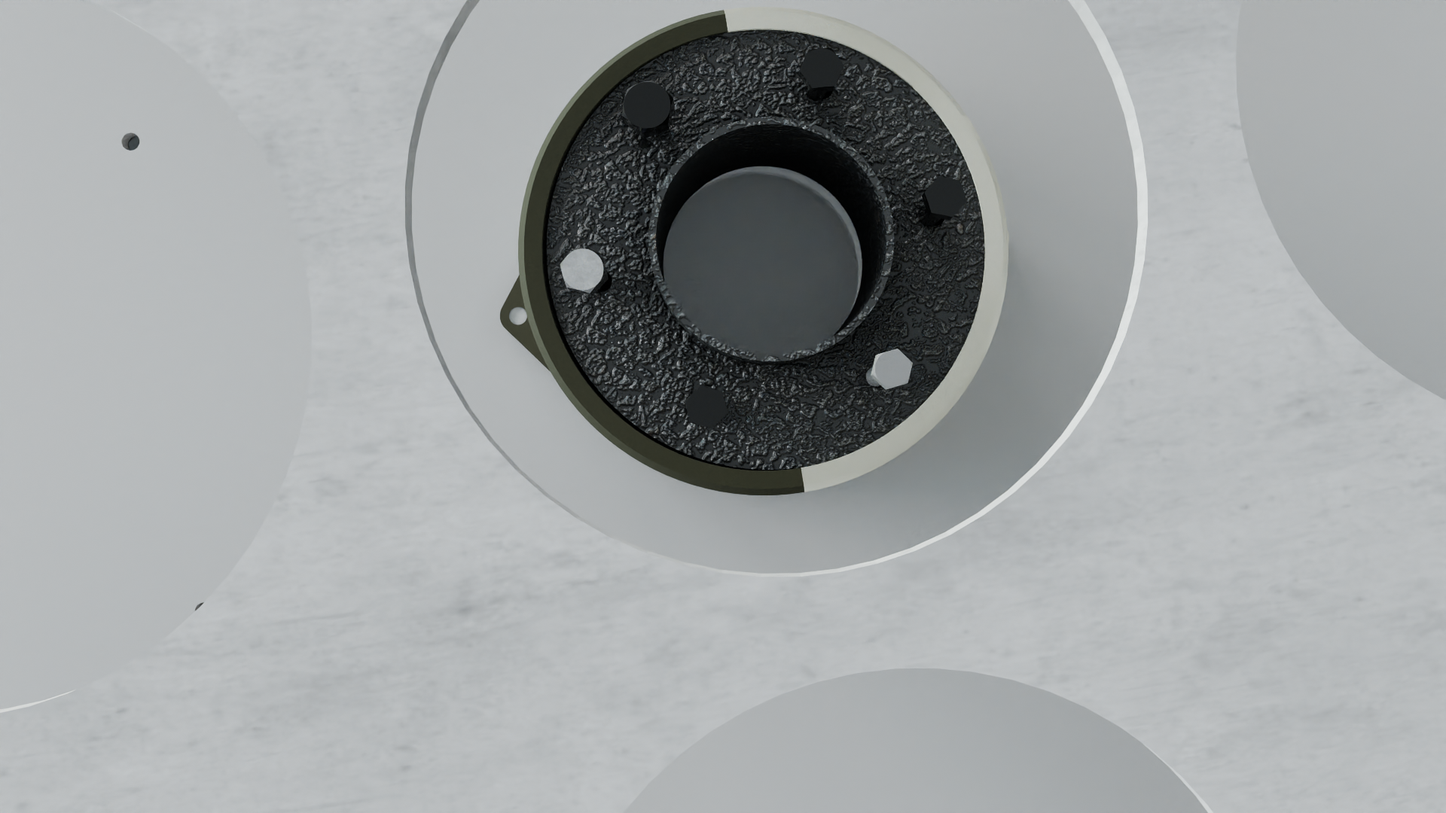bolt: (622, 81, 673, 133), (560, 247, 607, 294), (685, 385, 728, 428), (799, 47, 844, 88), (924, 176, 967, 217), (873, 349, 913, 388)
